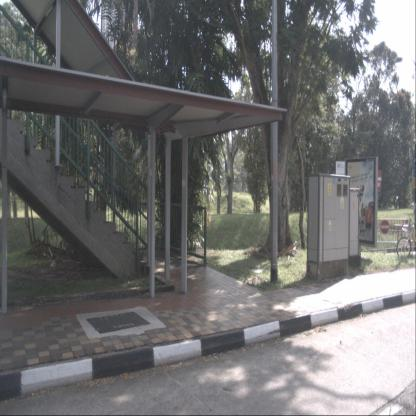vehicle-bicycle: (396, 217, 416, 260)
